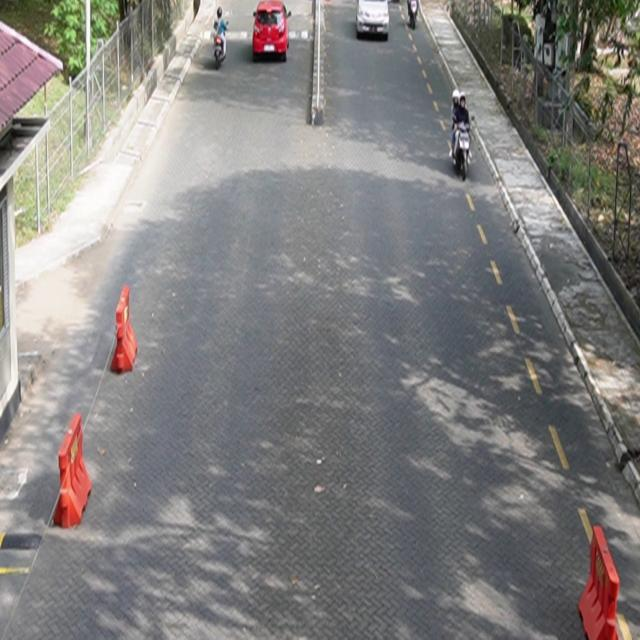car: (253, 1, 292, 62), (356, 1, 390, 41)
